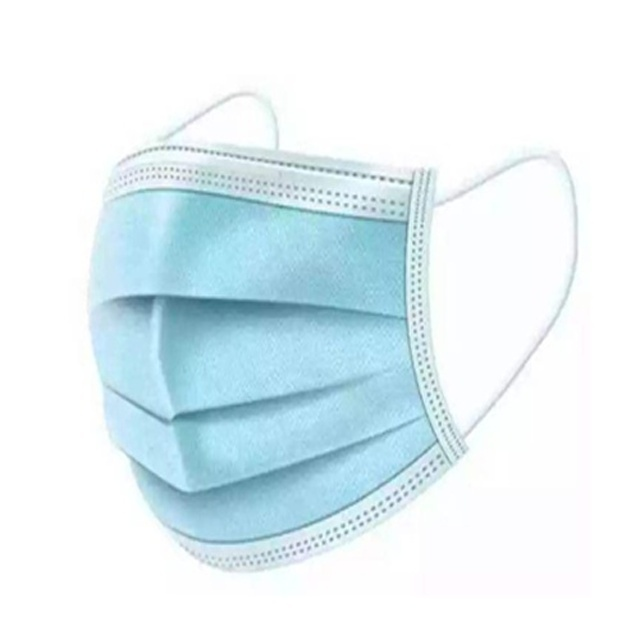mask: (88, 81, 584, 566)
